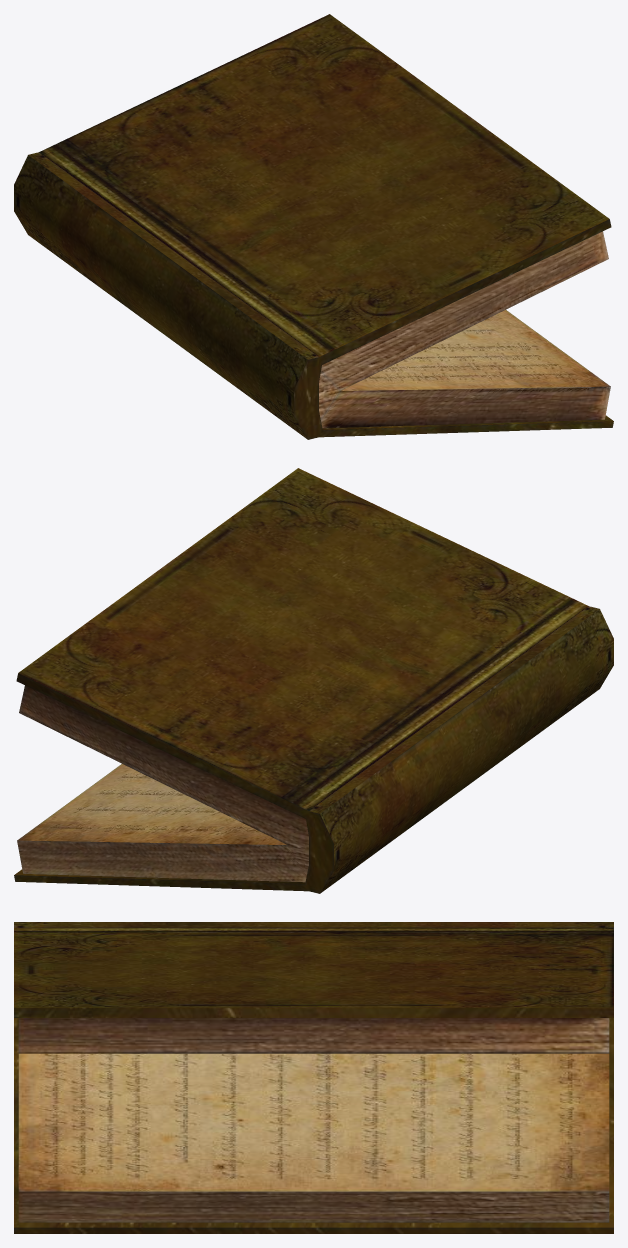
The model's file is Book_A.glb.
The picture shows the model from 3 angles, top to bottom: view 1: azimuth 30°, elevation 25°; view 2: azimuth 150°, elevation 25°; view 3: azimuth 270°, elevation 25°; orthographic projection. The views are drawn at different scales.
Parts seen in each view (by area): view 1: Book_A; view 2: Book_A; view 3: Book_A.
Boxes of the visible parts, x1,y1,x2,y2 form: Book_A: [14, 14, 613, 439]; Book_A: [14, 468, 613, 893]; Book_A: [14, 922, 613, 1233].
Bounding box in the file's own units: 0.2243 × 0.1404 × 0.34.
Materials: 1 (1 with a texture image).
